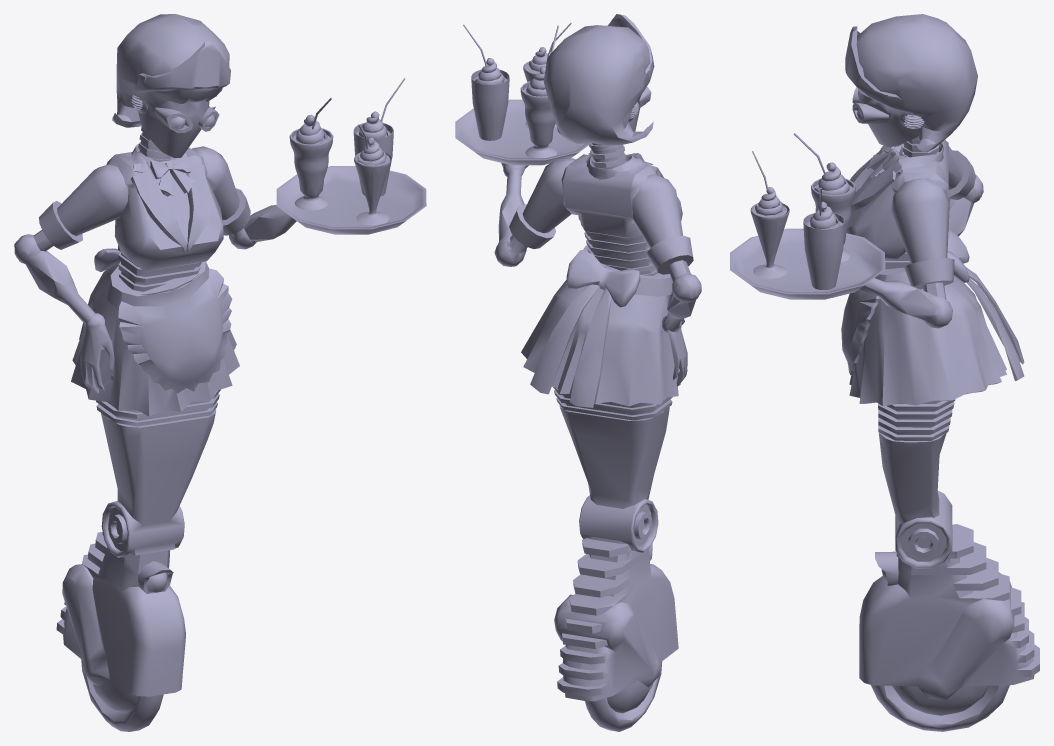
The model's file is waitress.glb.
The picture shows the model from 3 angles, left to right: view 1: azimuth 30°, elevation 25°; view 2: azimuth 150°, elevation 25°; view 3: azimuth 270°, elevation 25°; orthographic projection. The views are drawn at different scales.
Parts seen in each view (by area): view 1: Object_2; view 2: Object_2; view 3: Object_2.
Part boxes in pixels (x1,y1,x2,y2): Object_2: [14, 14, 426, 731]; Object_2: [455, 14, 701, 731]; Object_2: [730, 14, 1039, 731].
Bounding box in the file's own units: 0.7647 × 1.6 × 0.6155.
